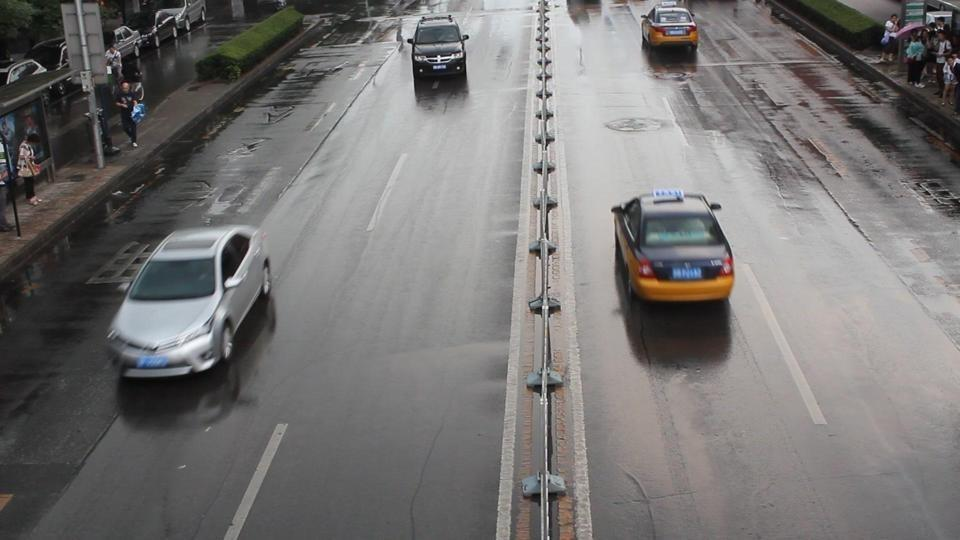car: (105, 225, 274, 380), (610, 188, 736, 304), (410, 15, 469, 77), (641, 5, 700, 52), (1, 59, 46, 86)
